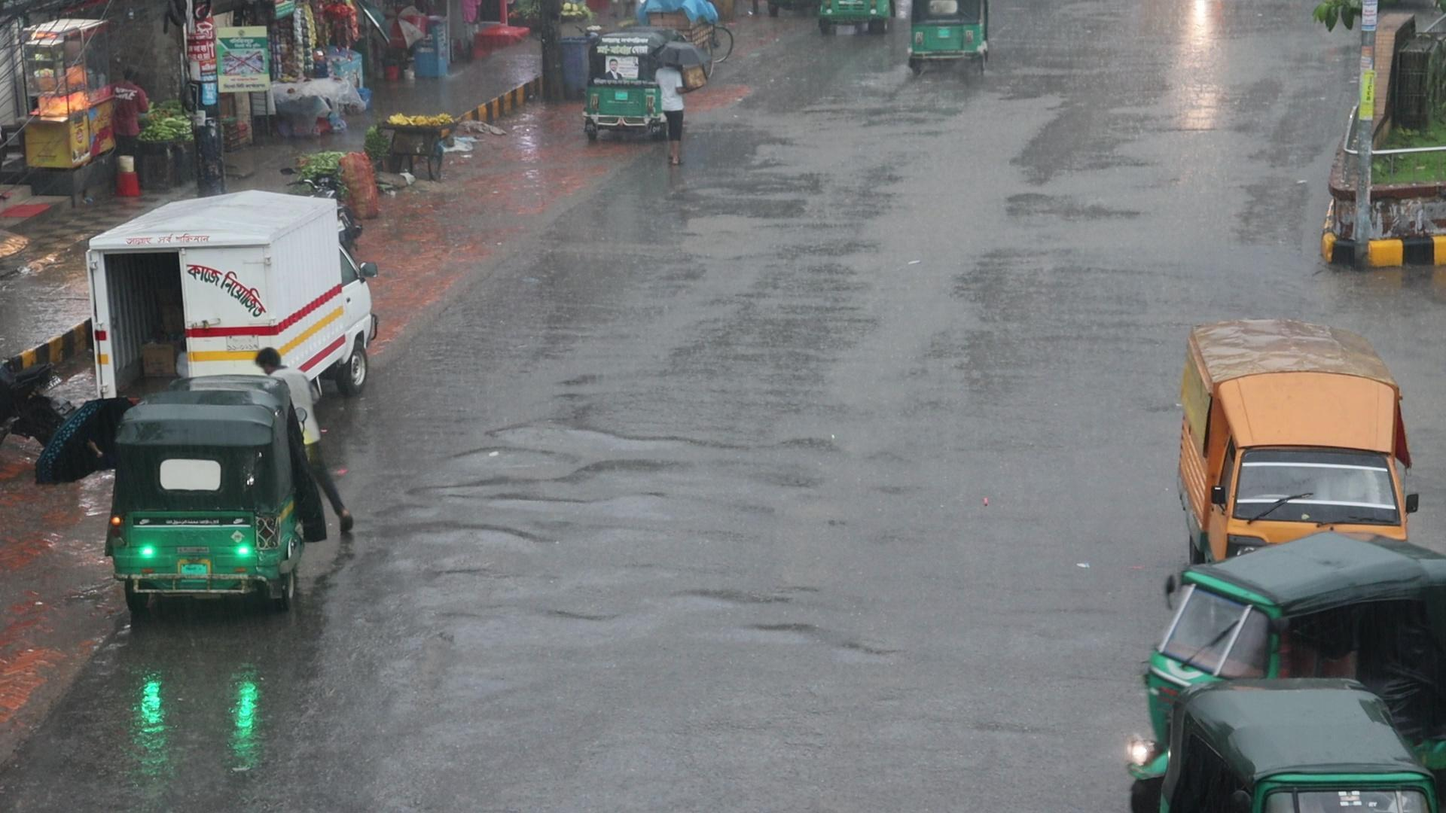Truck: (1166, 316, 1417, 540)
